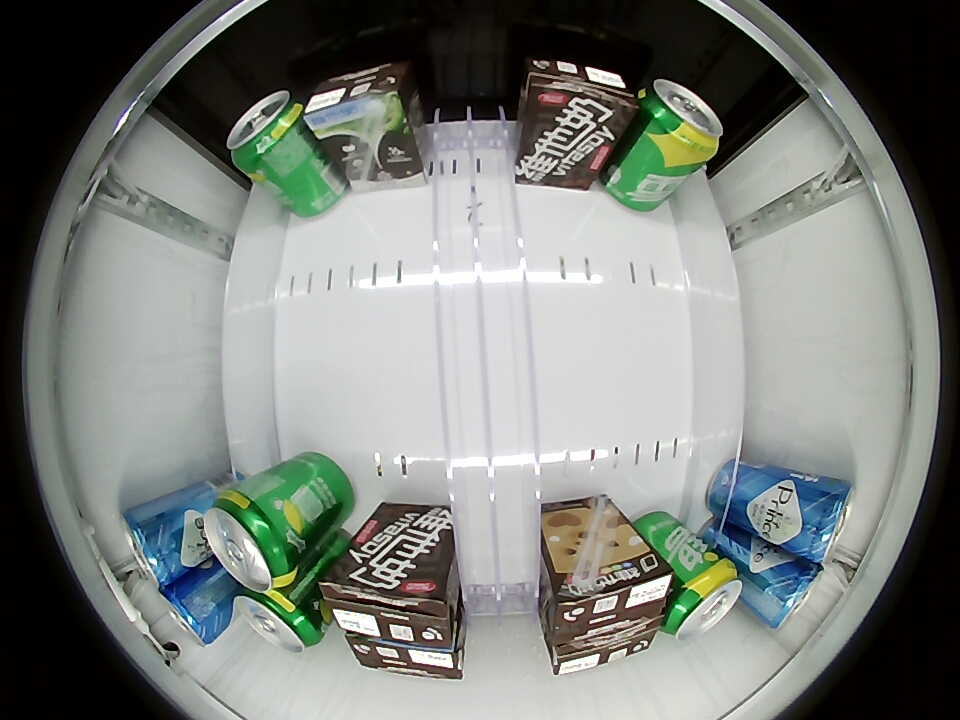qingdaowangzi-2: (121, 503, 188, 588), (157, 574, 231, 645), (794, 478, 855, 563), (753, 556, 824, 629)
weitanai2: (320, 555, 455, 645), (552, 551, 673, 642), (521, 58, 635, 135), (304, 63, 416, 141), (548, 622, 660, 676), (345, 632, 465, 680)
xuebi2: (203, 488, 303, 592), (636, 77, 723, 163), (227, 89, 311, 171), (662, 558, 743, 640), (234, 587, 325, 653)
